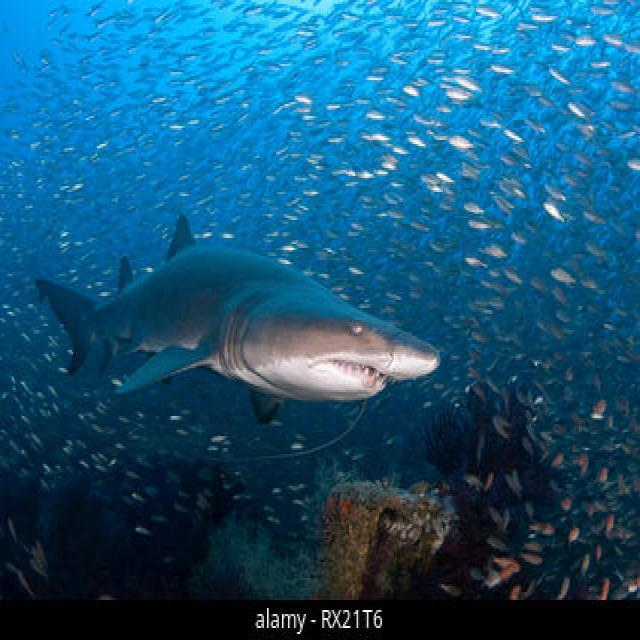Shark: (37, 168, 448, 506)
